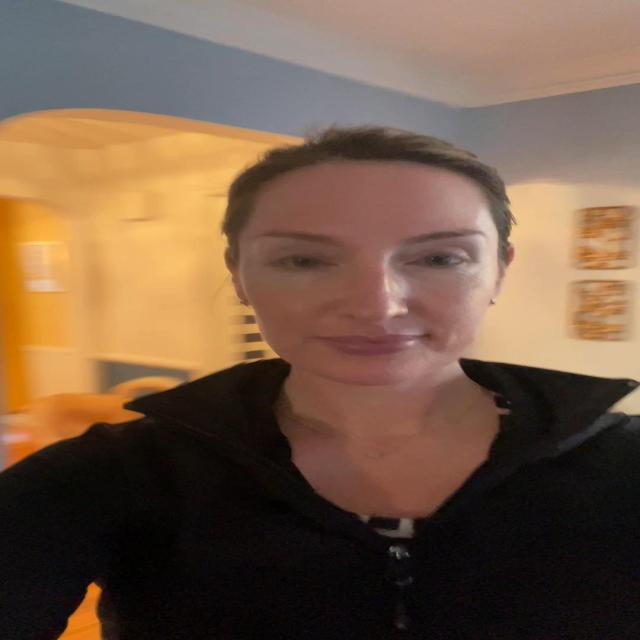no-helmet: (215, 155, 522, 416)
